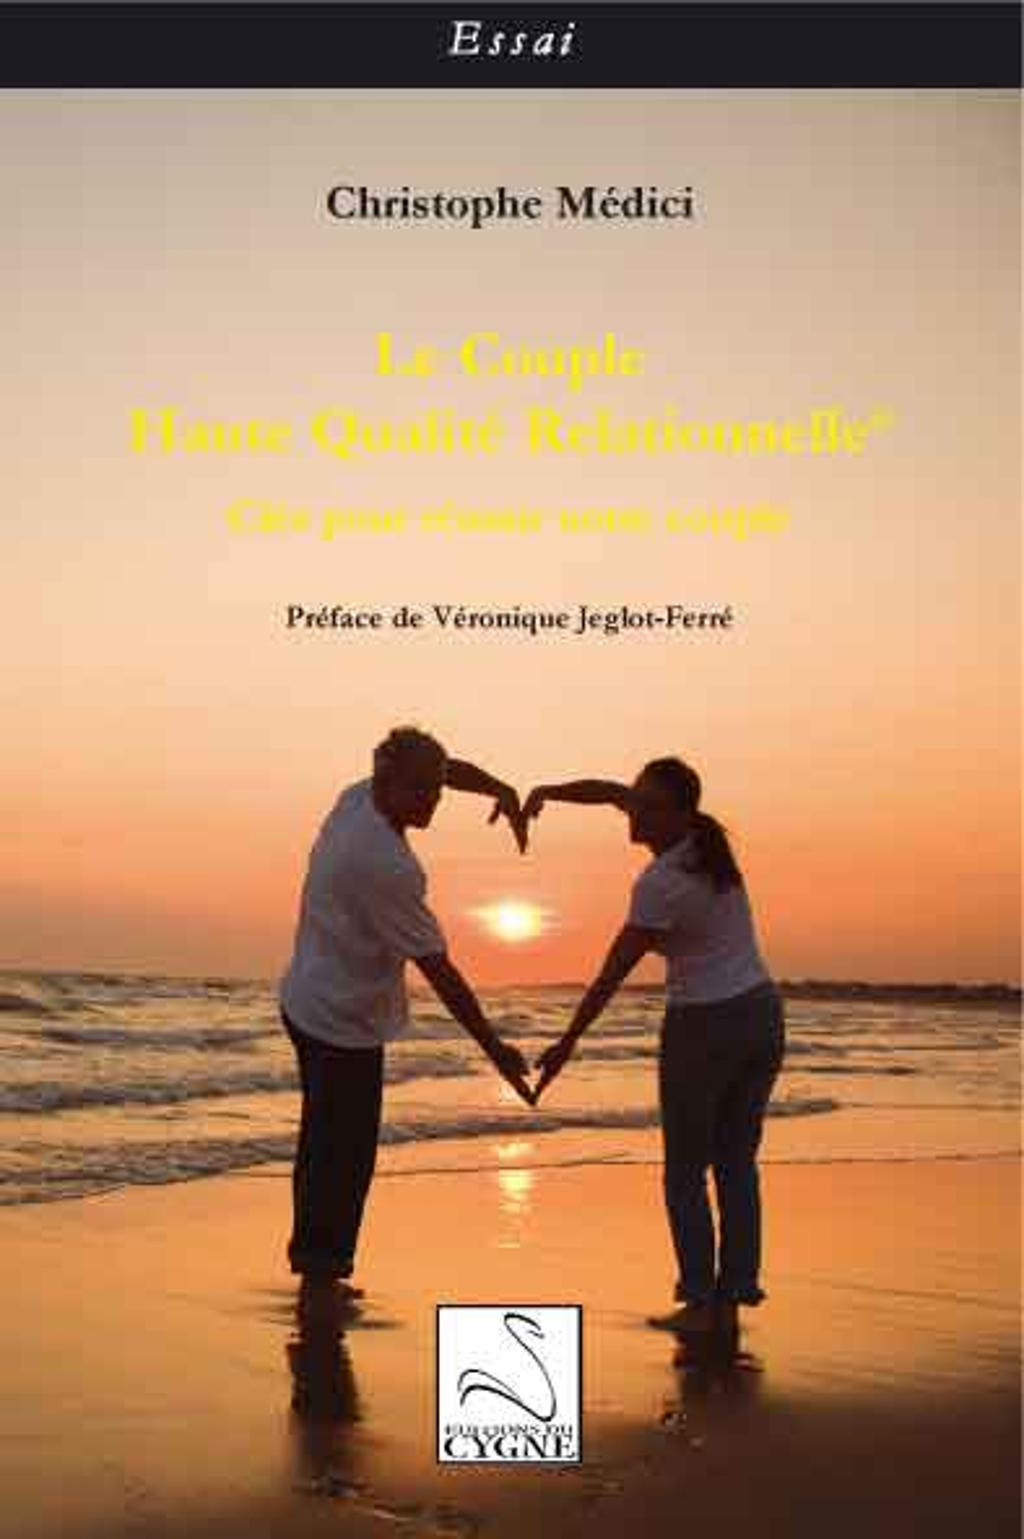face: (392, 751, 444, 830), (626, 771, 668, 842)
